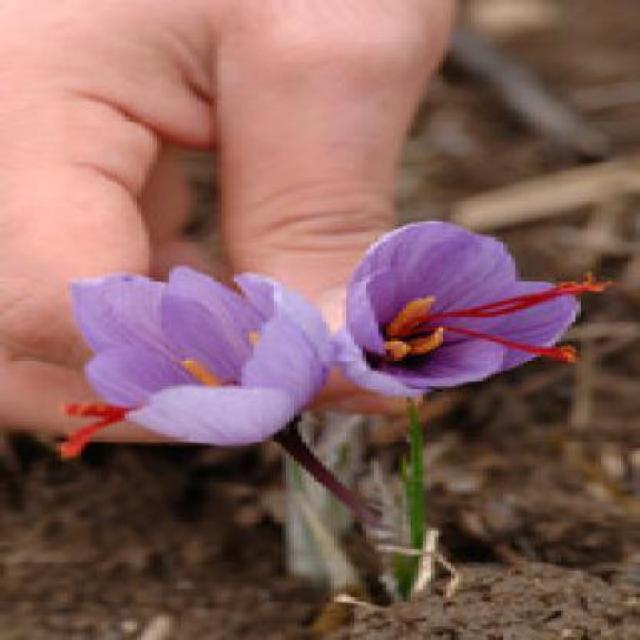Flower: (320, 206, 602, 394), (66, 273, 329, 455)
stigma: (421, 267, 613, 324), (411, 318, 591, 369), (53, 421, 112, 466), (62, 396, 130, 423)
